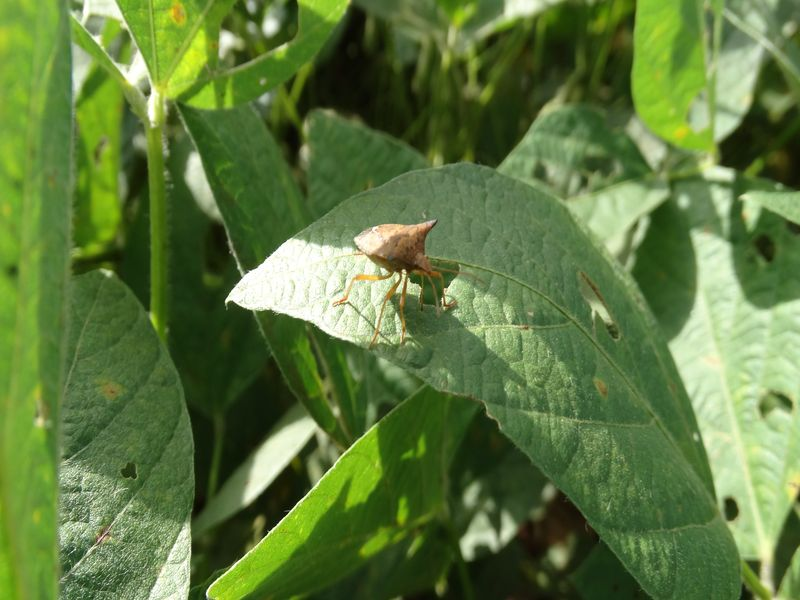Euschistus_heros_adulto: (322, 212, 455, 347)
